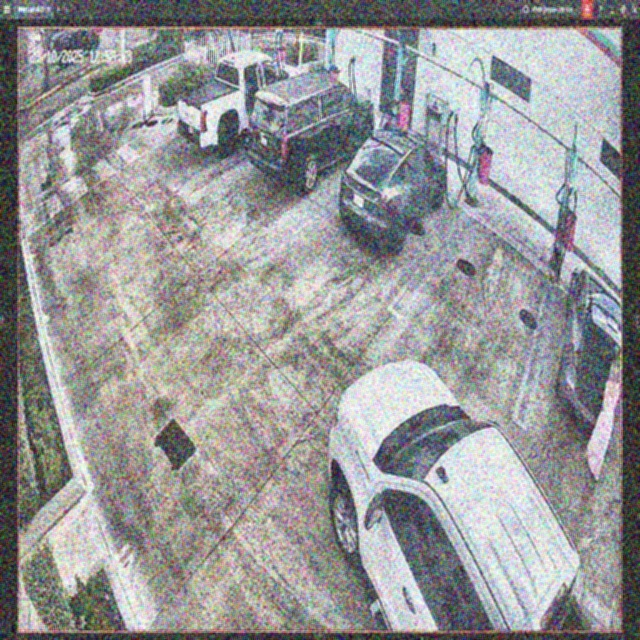Car: (329, 359, 591, 632), (247, 73, 373, 189), (342, 125, 447, 256), (178, 50, 302, 153)
